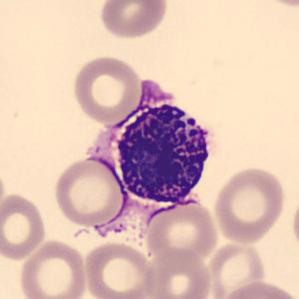Basophil: (78, 72, 222, 212)
RBC: (211, 164, 287, 246), (70, 53, 144, 125), (143, 197, 221, 265), (52, 156, 125, 228), (17, 237, 90, 299), (81, 240, 156, 299), (203, 239, 267, 299), (142, 247, 214, 299), (0, 191, 48, 262), (97, 0, 169, 40), (218, 279, 297, 299), (289, 189, 299, 256), (251, 0, 299, 9), (0, 164, 7, 225)
